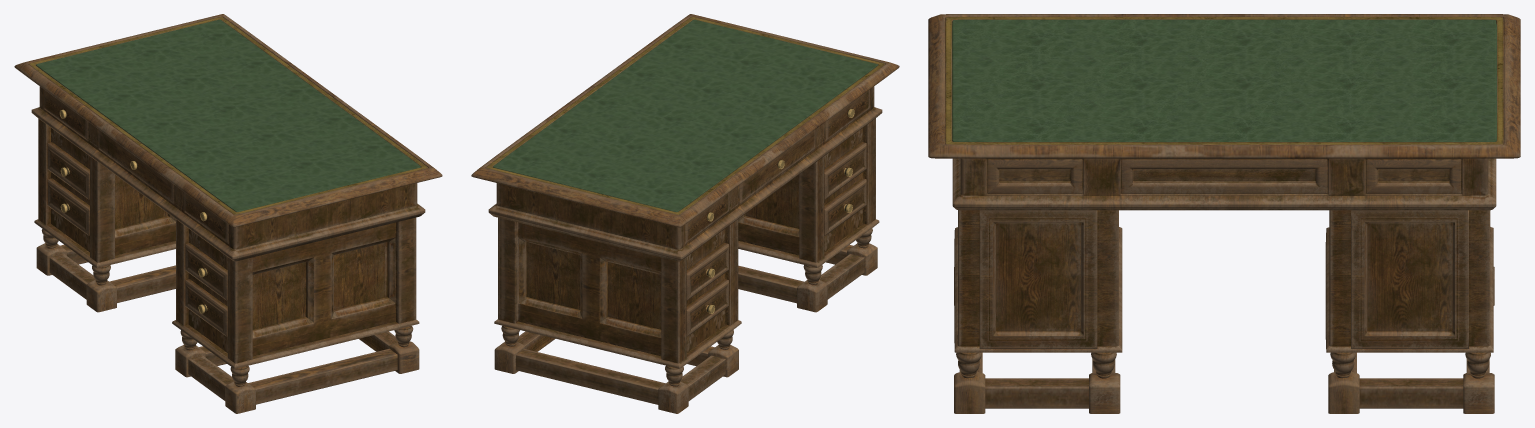
The model's file is desk-DQZW7oz9.glb.
3 views of the same model, side by side, from view 1: azimuth 30°, elevation 25°; view 2: azimuth 150°, elevation 25°; view 3: azimuth 270°, elevation 25° (orthographic). The views are drawn at different scales.
Parts seen in each view (by area): view 1: g (×15); view 2: g (×15); view 3: g (×15).
Boxes of the visible parts, left/top/right/bottom form: g (×15): left=14, top=14, right=442, bottom=413; g (×15): left=471, top=14, right=899, bottom=413; g (×15): left=928, top=14, right=1520, bottom=413.
Size of the model in its own units: 0.9942 by 0.9157 by 1.8.
1 material, 1 textured.
